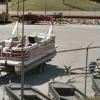Boat: (5, 21, 59, 85)
